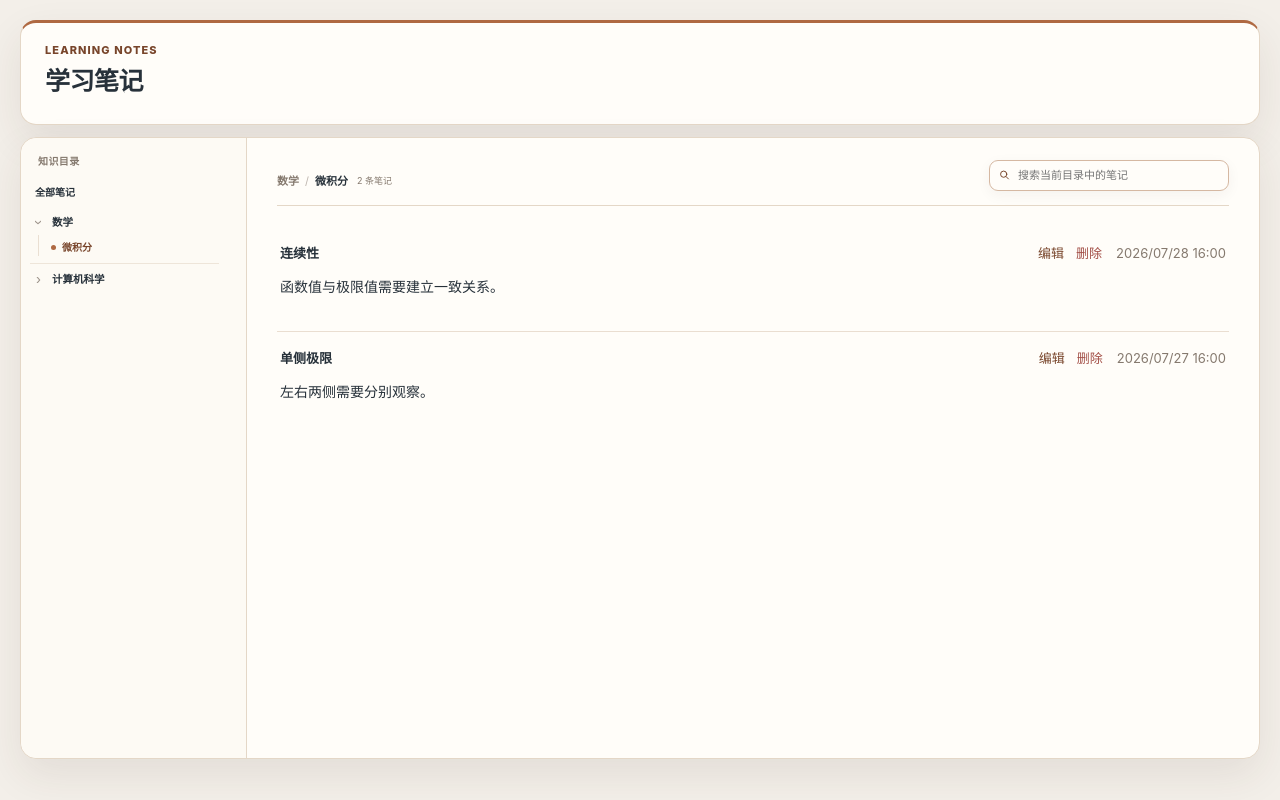
Test: NotesPage › keeps editing and deletion available from the reorganized note stream
The image size is (1280, 800).
Expected: the navigation bar named "当前笔记范围" reads "数学 / 微积分", [277,172,348,190]
Click the button "编辑" in the row of "2026/07/28 16:00": (1051, 253) [1038,242,1064,264]
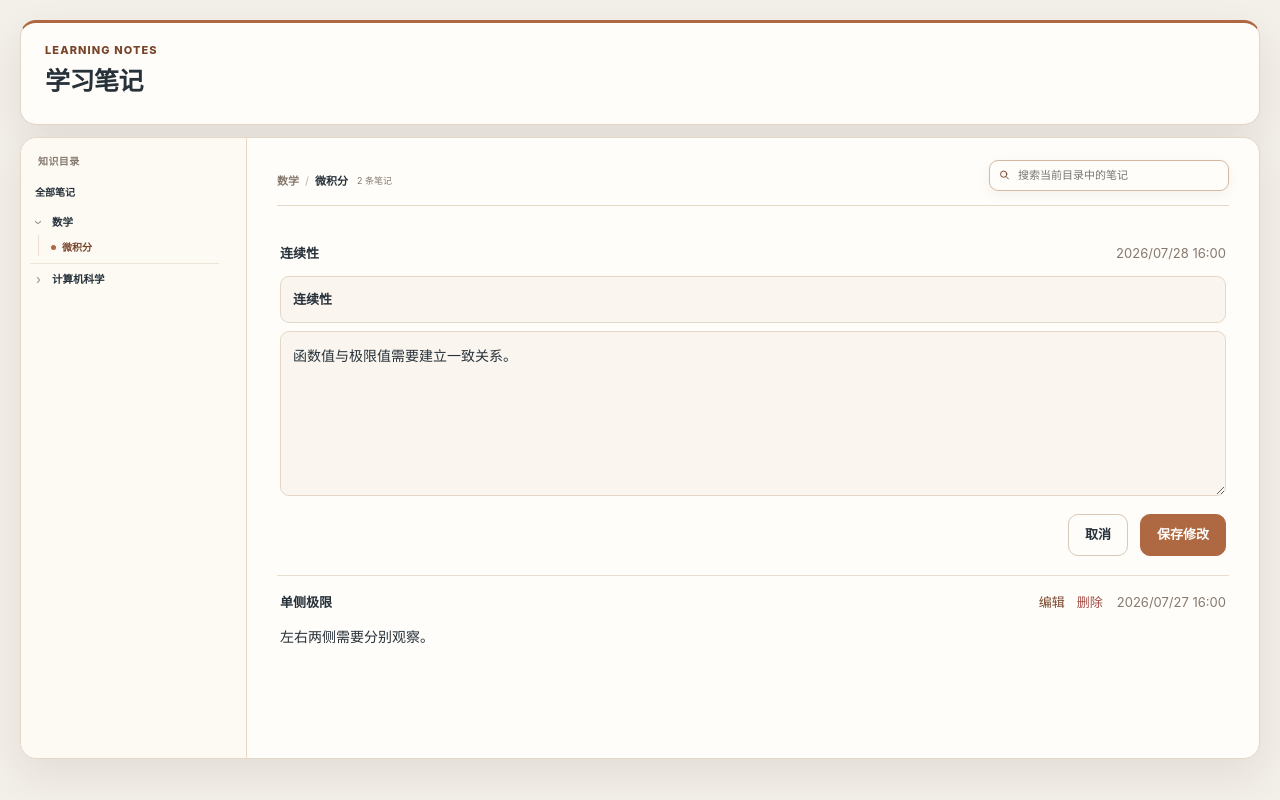
Replace the text in the field named "编辑笔记标题" with "函数值与极限值的区别": (753, 300) [280,276,1226,323]
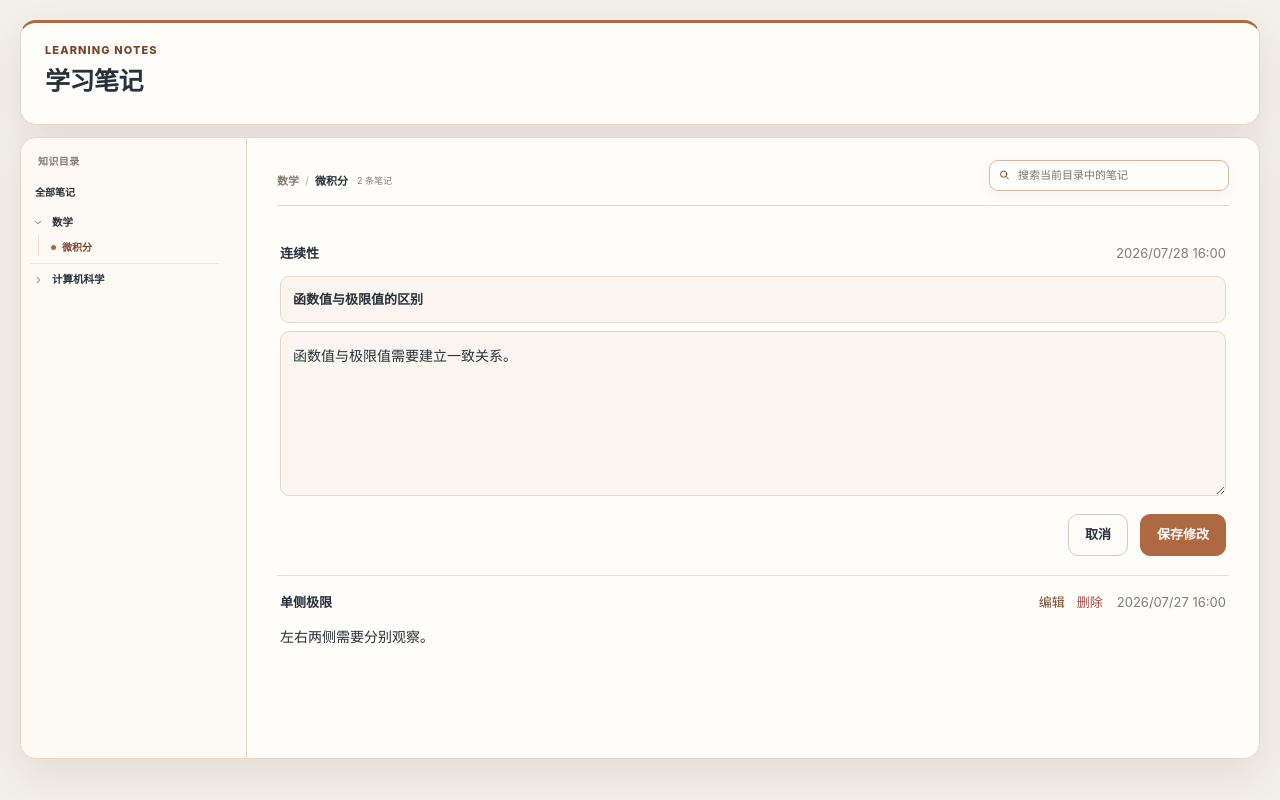
Replace the text in the text box named "编辑学习笔记" with "连续要求函数值与极限值相等。": (753, 414) [280,331,1226,496]
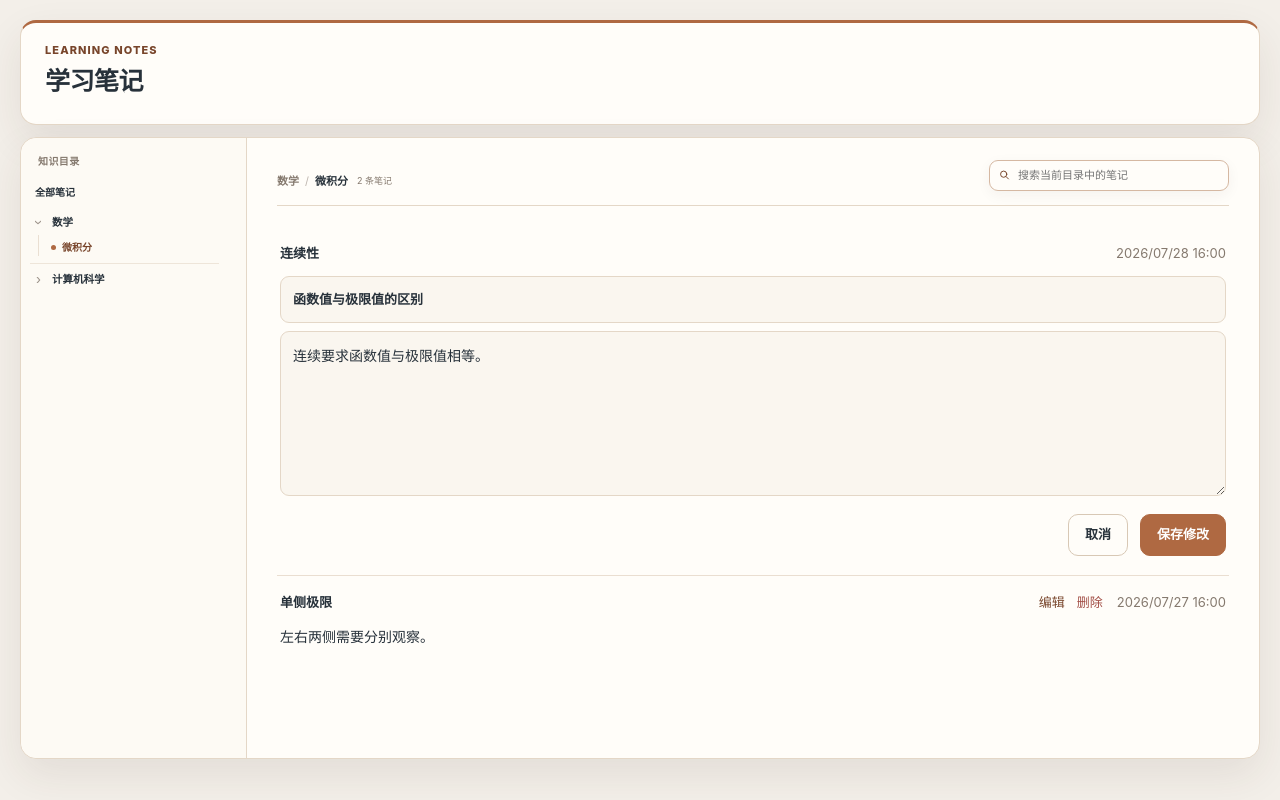
Click the button "保存修改": (1183, 535) [1140,514,1226,556]
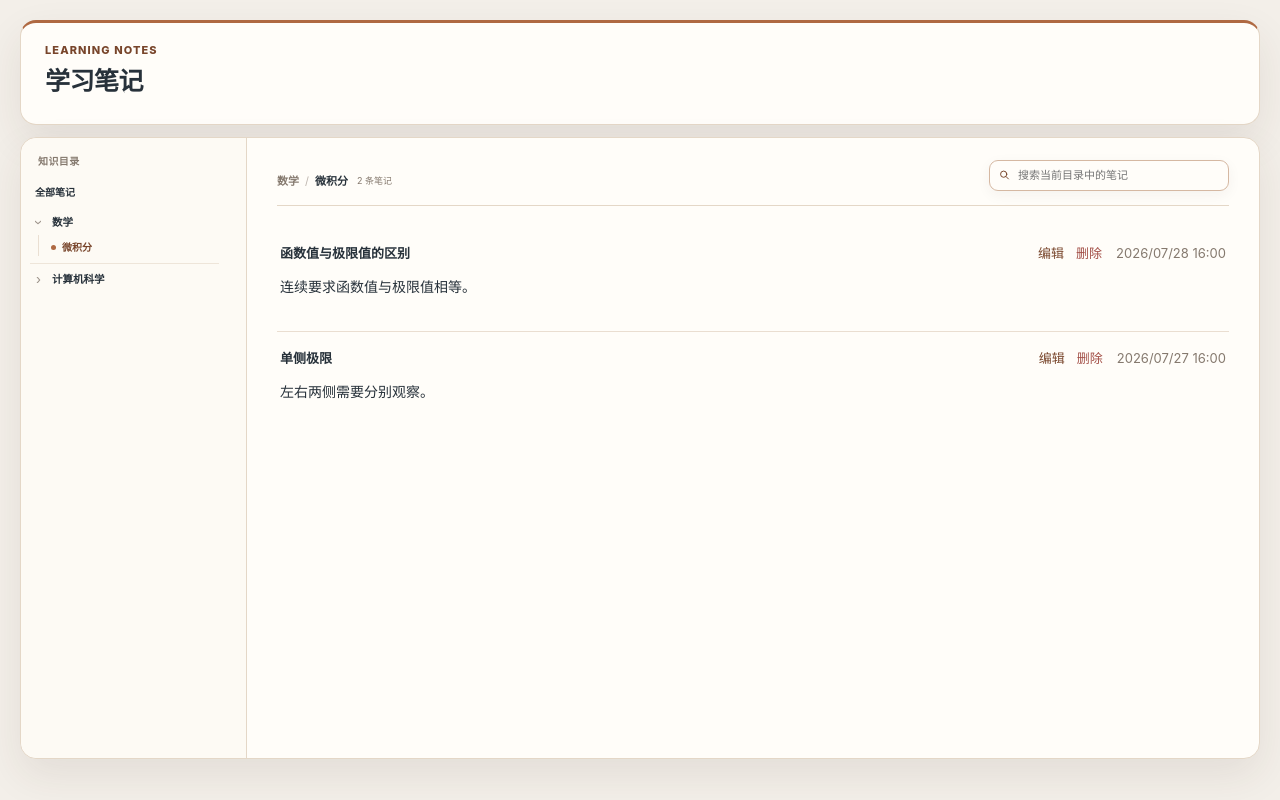
Expected: the text "连续要求函数值与极限值相等。" is shown, [280,278,476,295]
Expected: the text "函数值与极限值的区别" is shown, [280,242,410,264]
Click the button "删除" next to "2026/07/28 16:00": (1089, 253) [1076,242,1102,264]
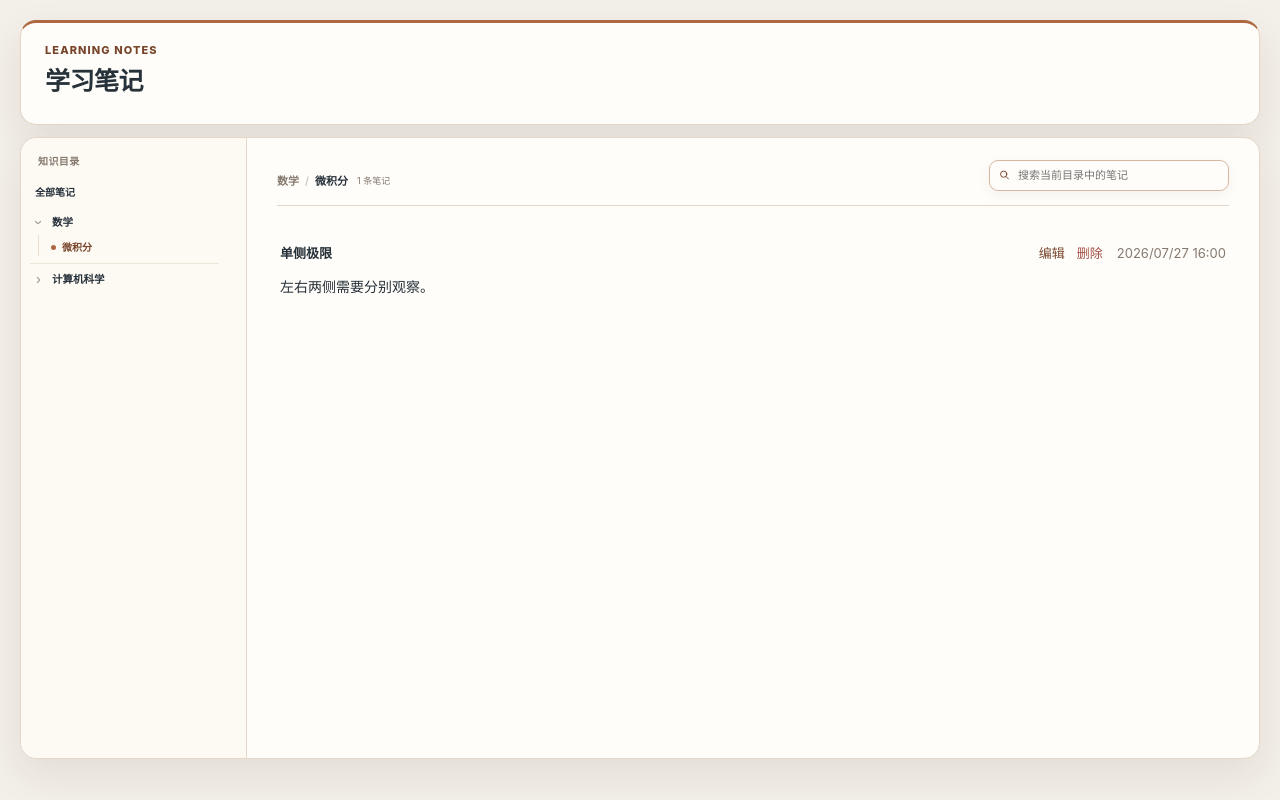
Expected: the text "连续要求函数值与极限值相等。" is gone
